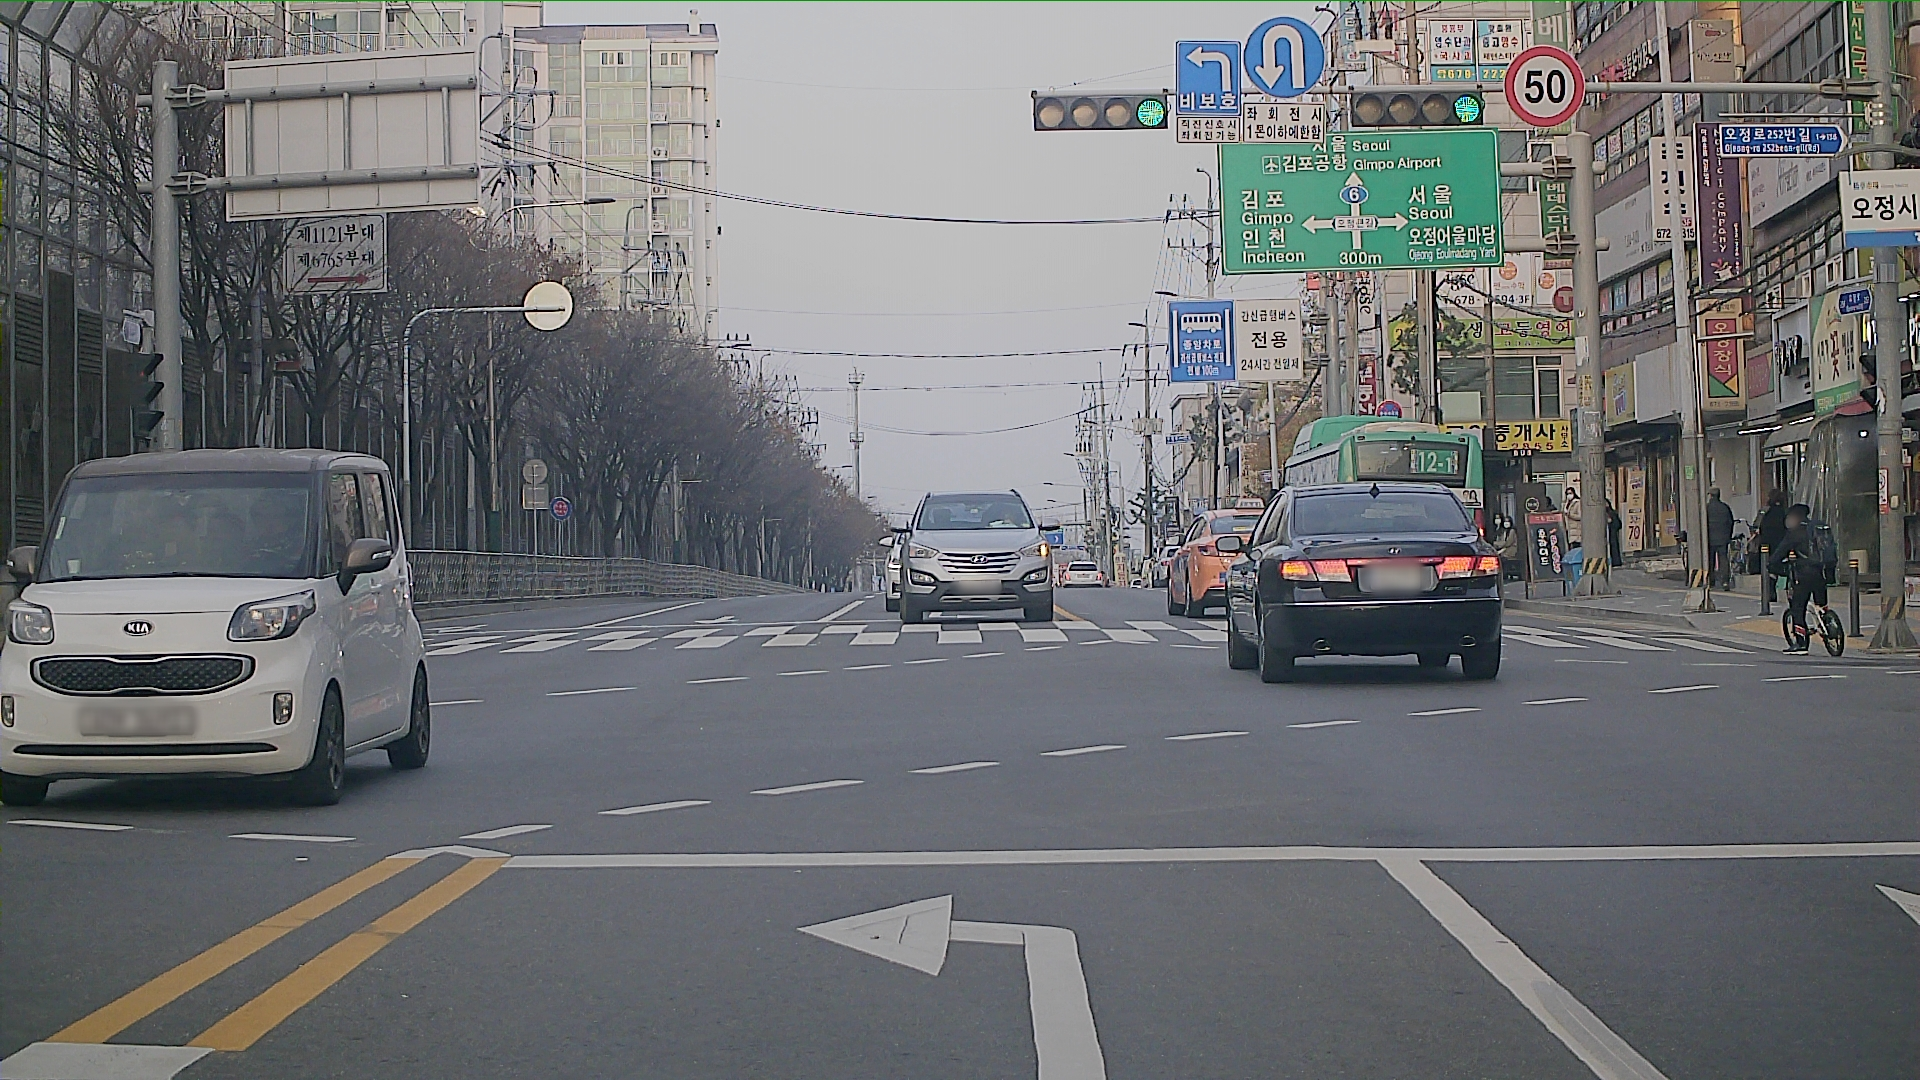trafficLight: (1029, 87, 1168, 132), (1352, 88, 1484, 123)
trafficSignCircle: (1503, 45, 1584, 124), (1244, 16, 1323, 96)
trafficSignRTG: (1175, 38, 1240, 119)
